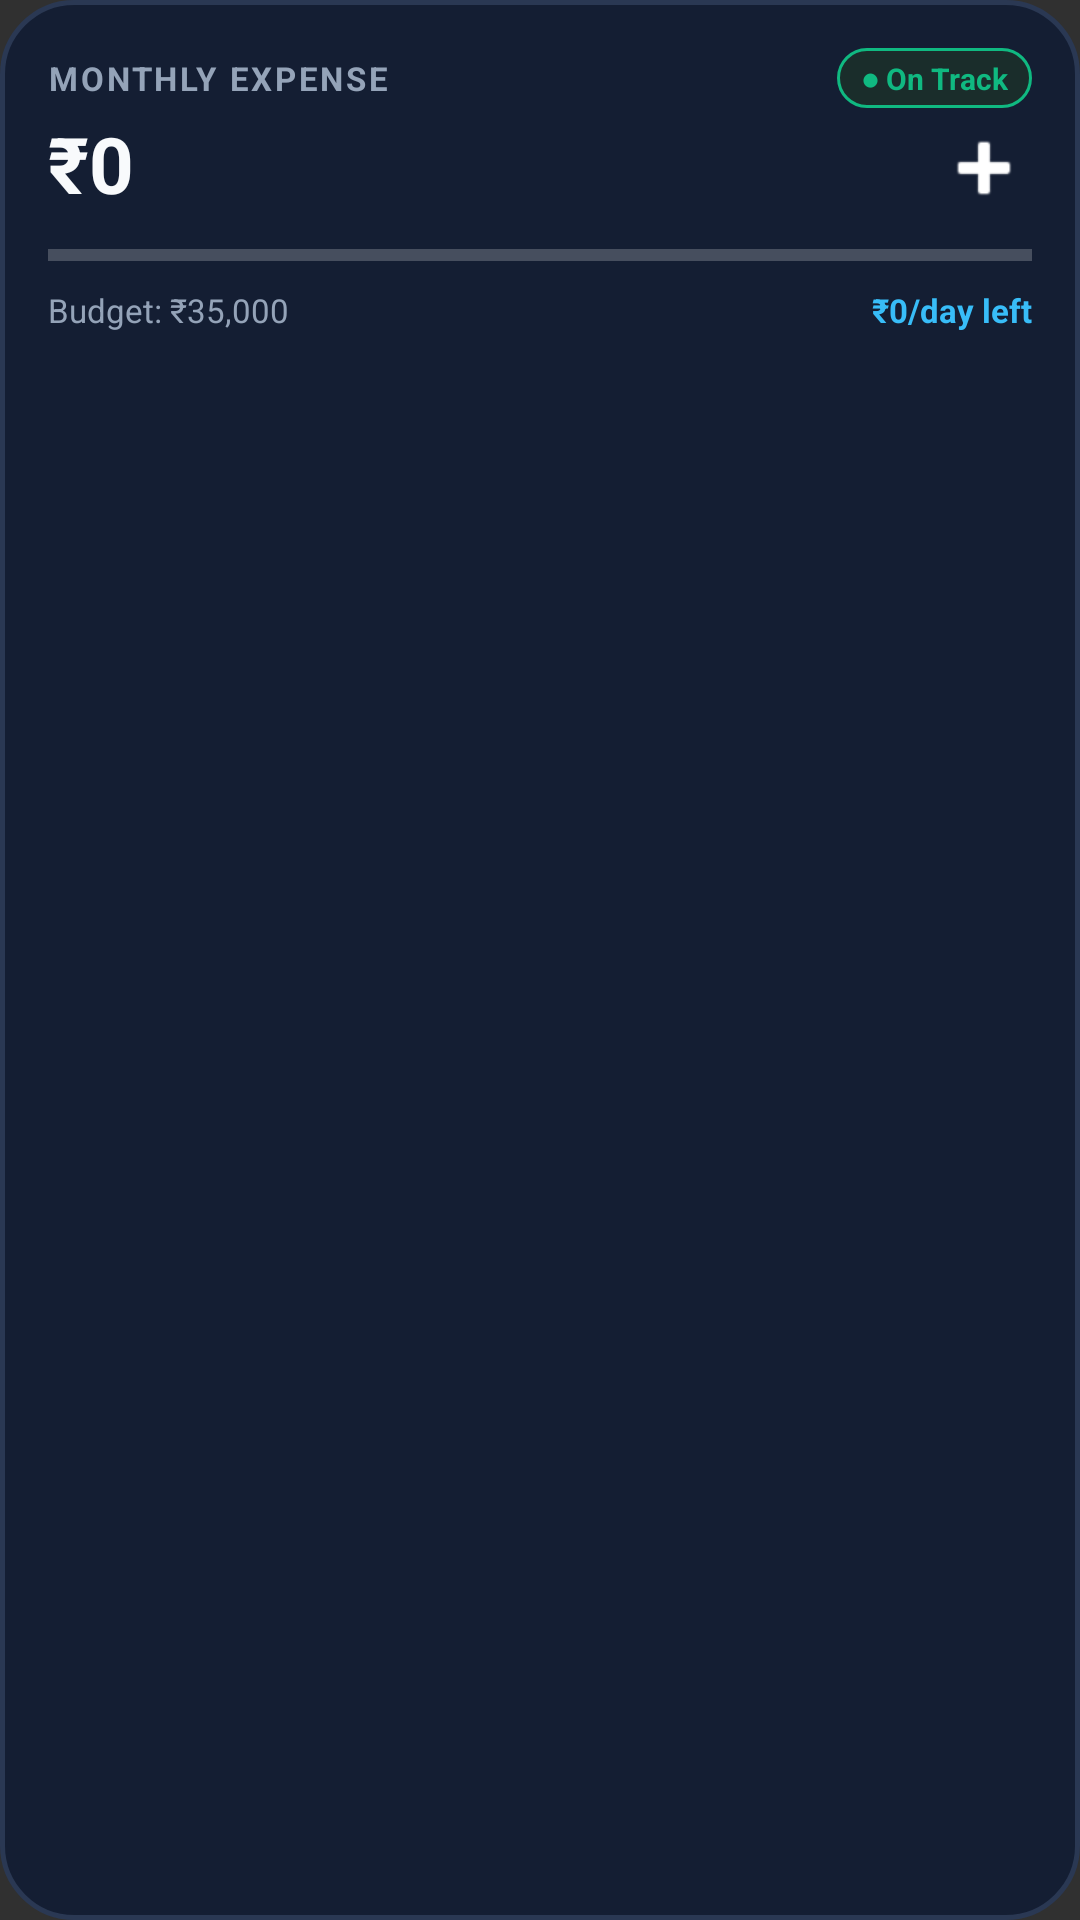

Named icons in this screenshot (1080px×1920px) and their centers, [x,y]:
Add Expense: [984,168]
